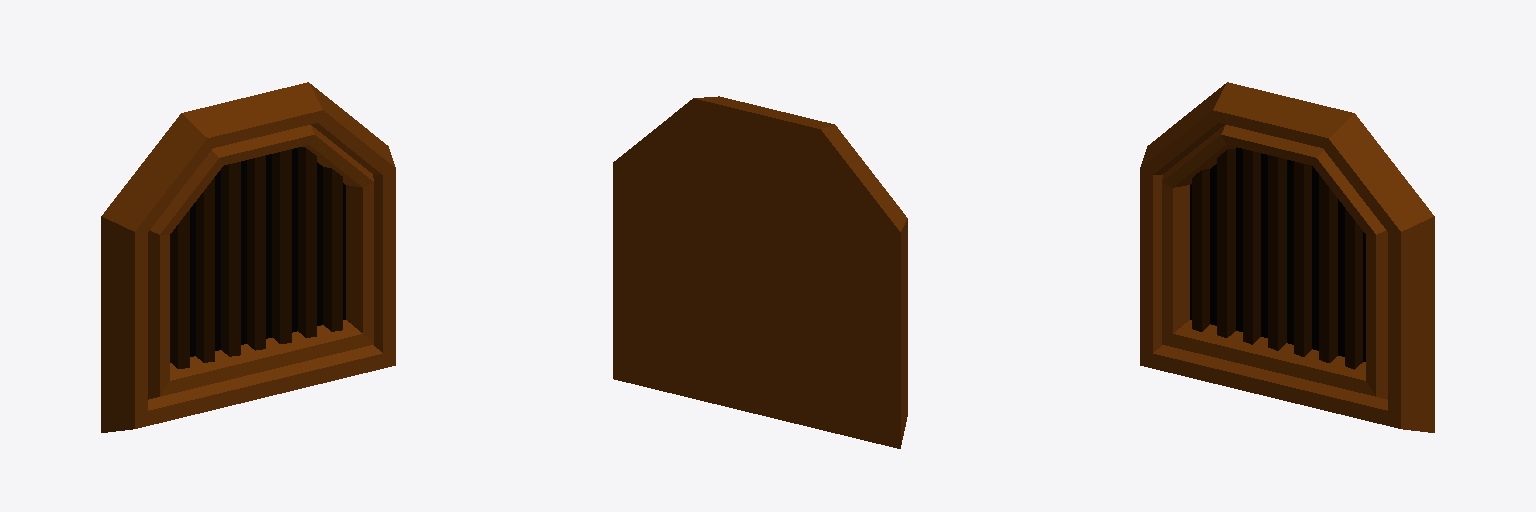
The model's file is Details_Vent_2.obj.
The picture shows the model from 3 angles: view 1: azimuth 30°, elevation 25°; view 2: azimuth 150°, elevation 25°; view 3: azimuth 330°, elevation 25°; orthographic projection.
Parts seen in each view (by area): view 1: Details_Vent_2_Cube.054; view 2: Details_Vent_2_Cube.054; view 3: Details_Vent_2_Cube.054.
Boxes of the visible parts, x1,y1,x2,y2 form: Details_Vent_2_Cube.054: [101, 82, 395, 432]; Details_Vent_2_Cube.054: [613, 96, 907, 448]; Details_Vent_2_Cube.054: [1140, 82, 1434, 432].
Bounding box in the file's own units: 0.3099 × 0.3099 × 0.0413.